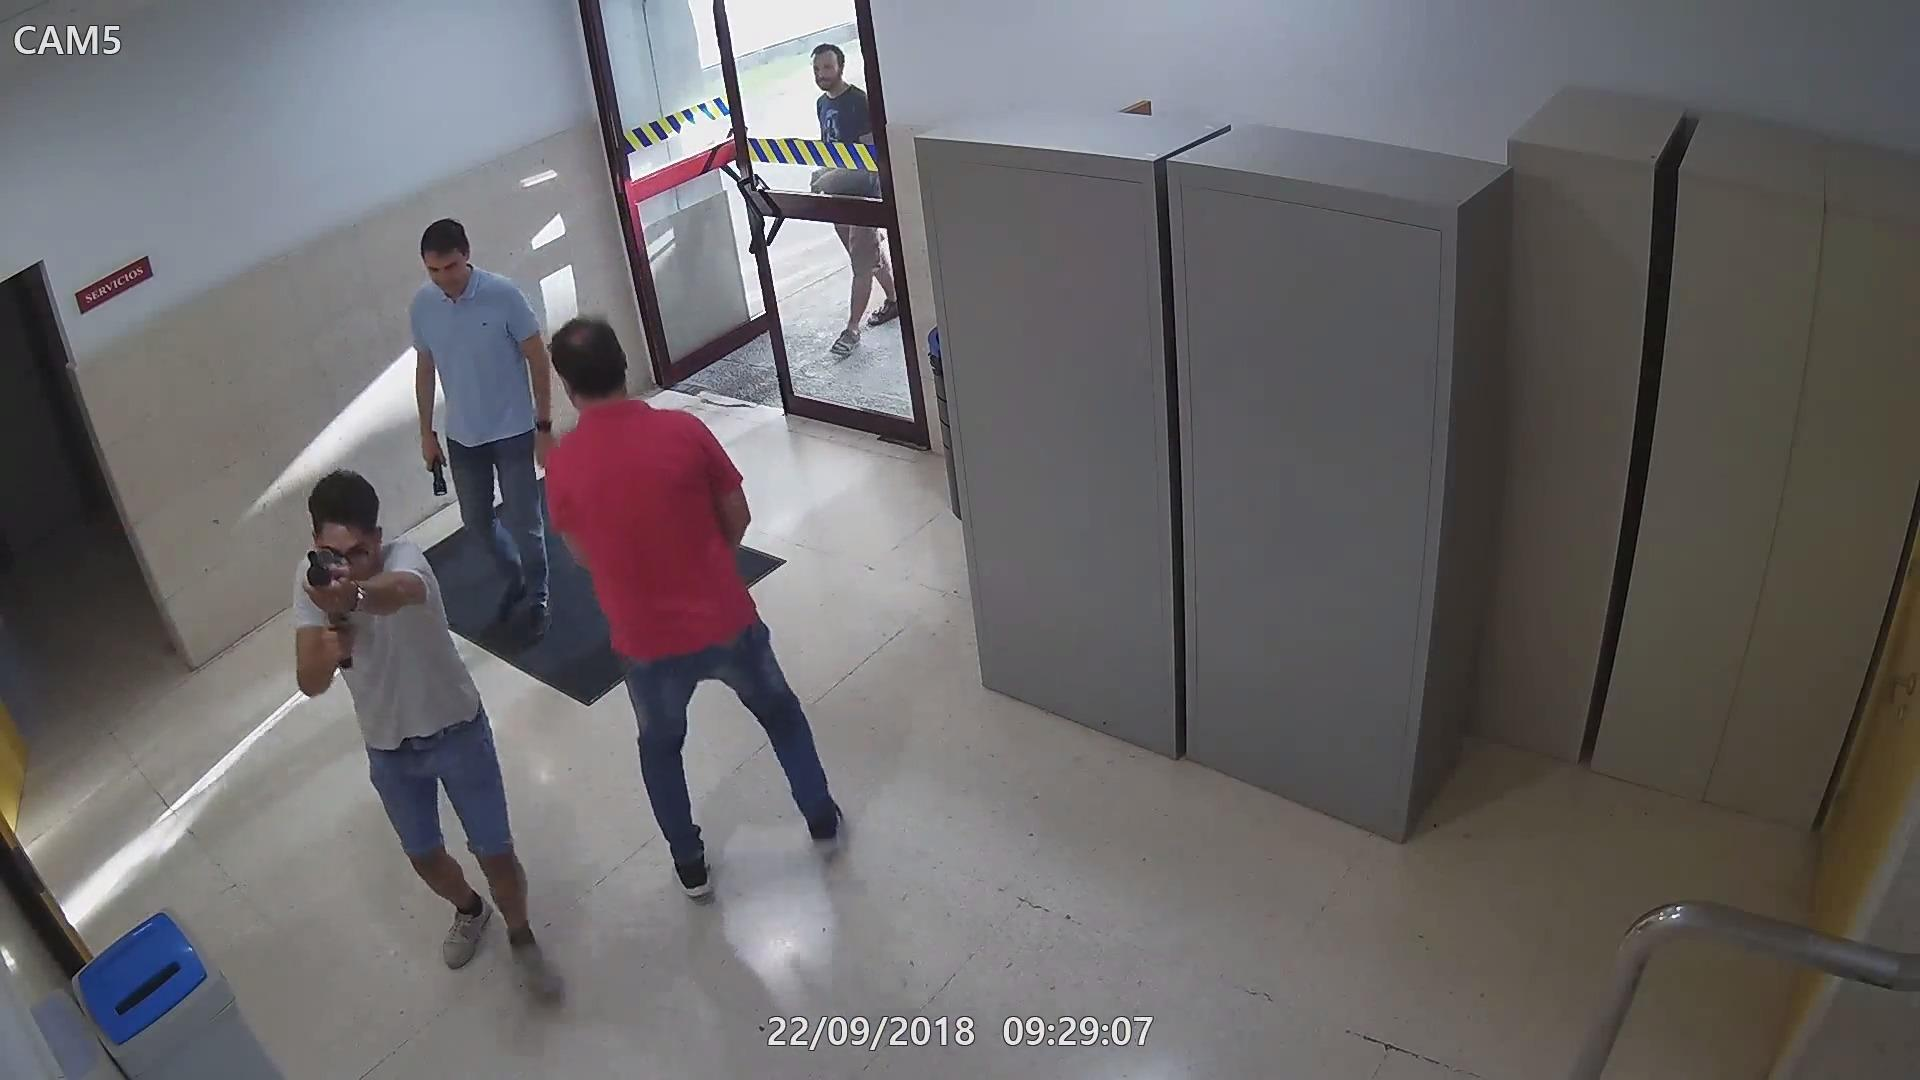Handgun: (810, 169, 820, 190)
